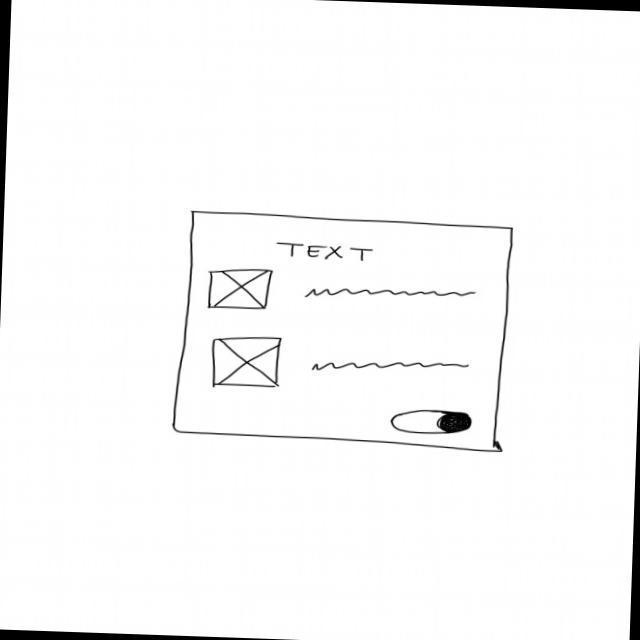container: (171, 209, 517, 455)
image: (210, 334, 284, 392), (204, 266, 278, 311)
label: (275, 241, 378, 268)
text: (308, 356, 475, 381), (302, 284, 481, 306)
toggle: (389, 407, 476, 437)
